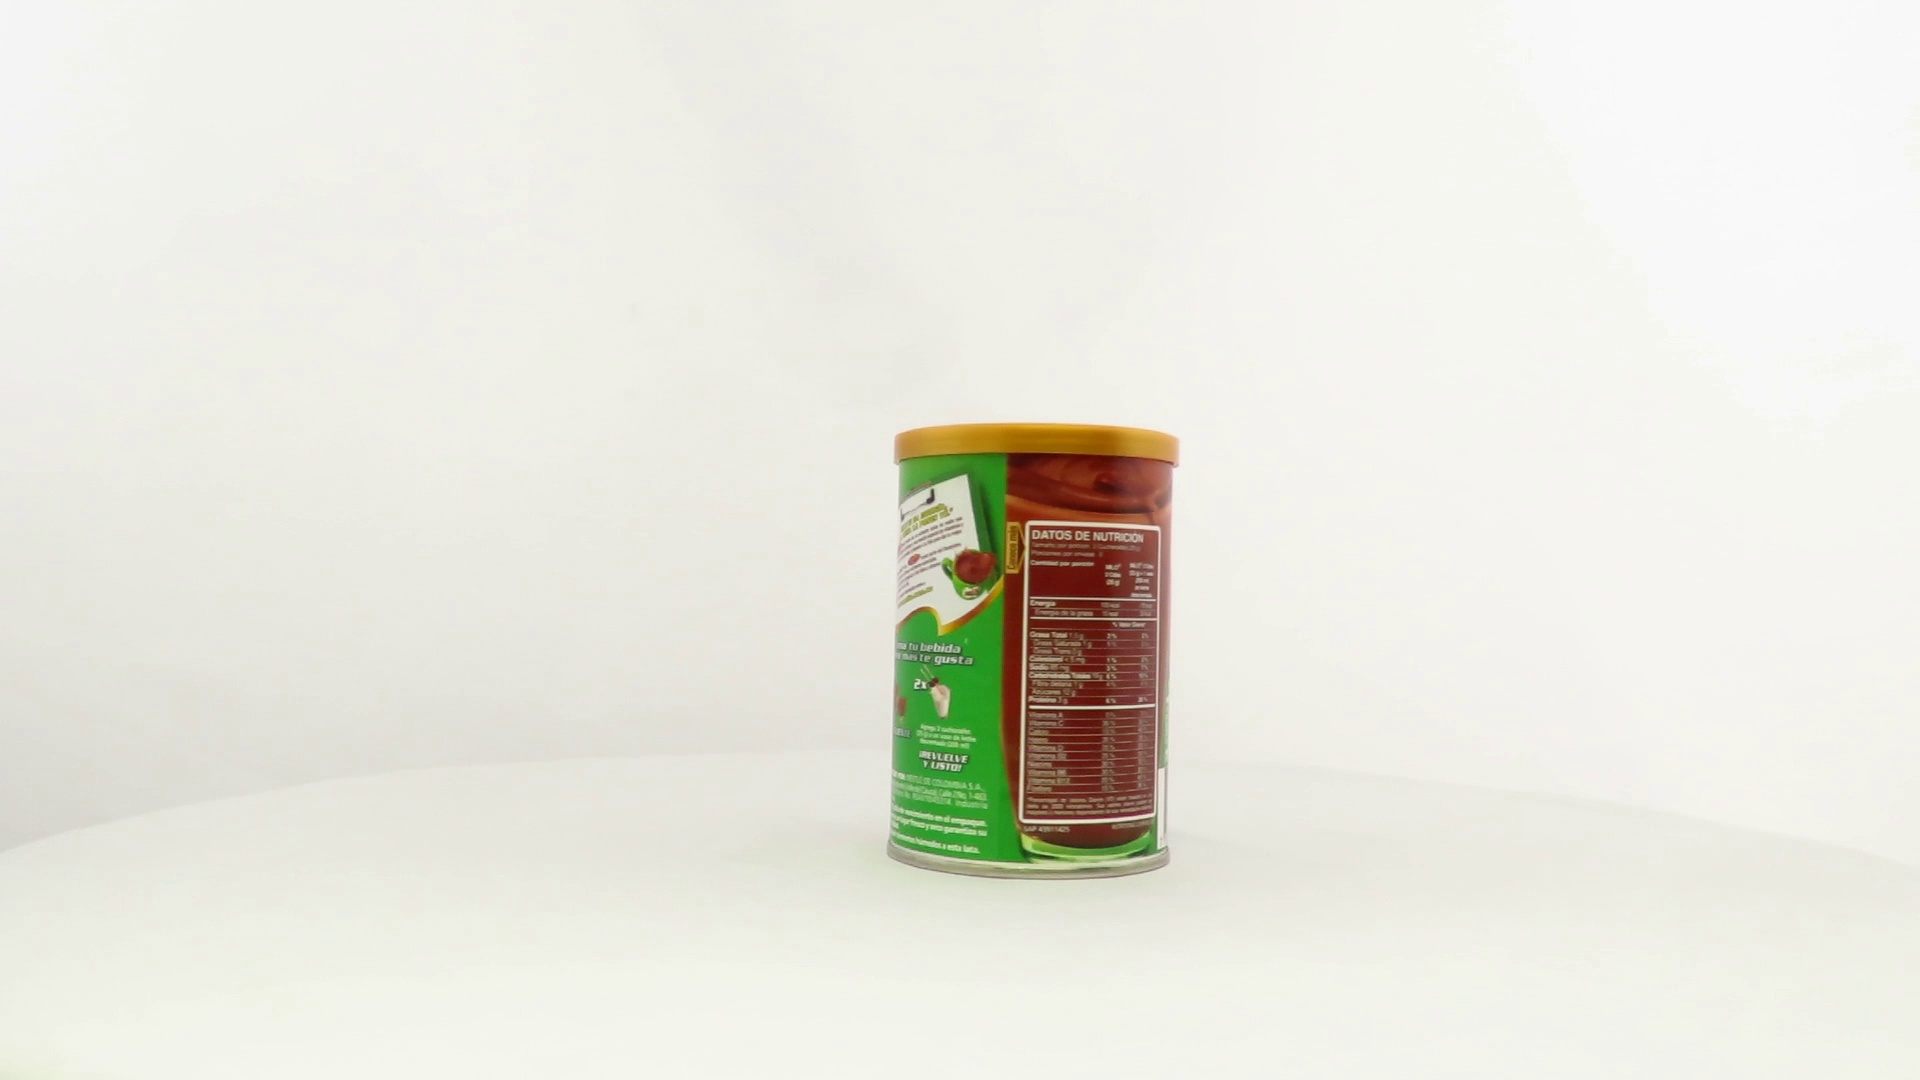COL0170203LAT20000: (881, 418, 1185, 887)
